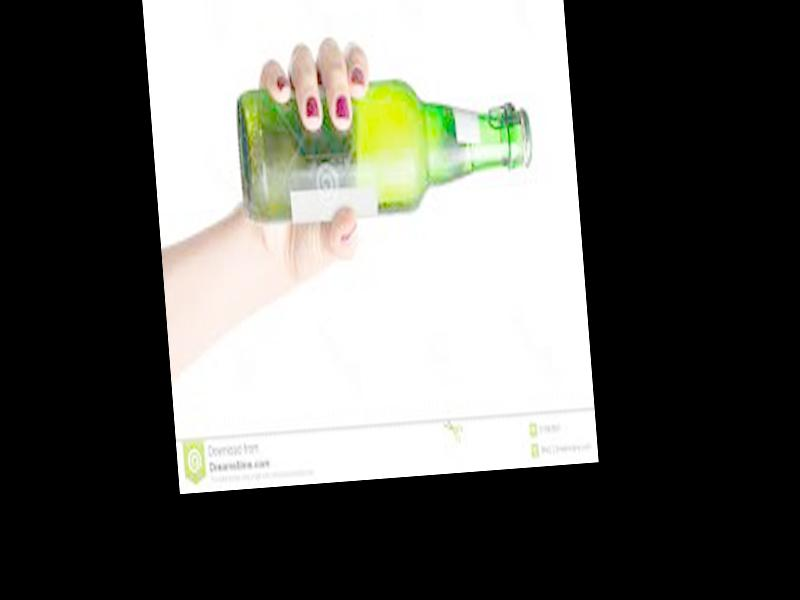Beer: (234, 69, 538, 230)
